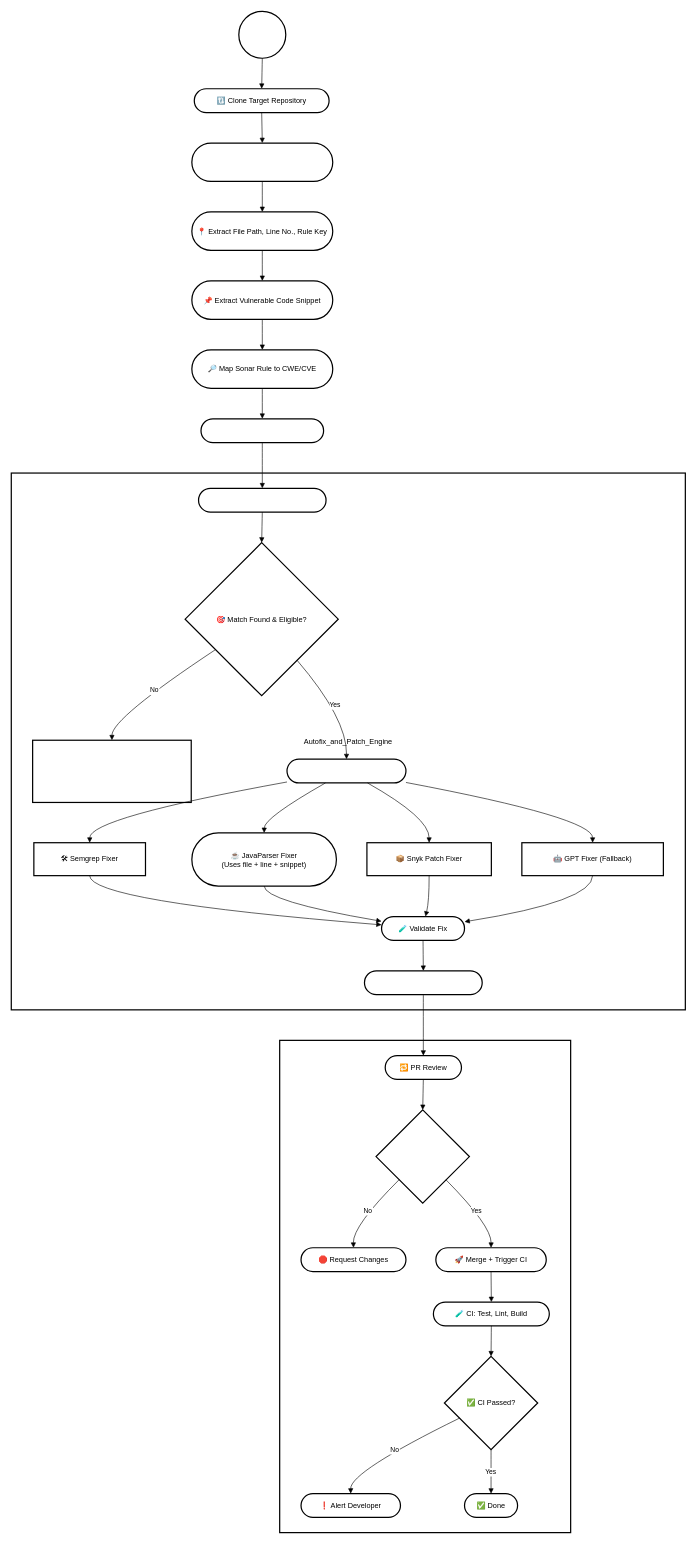
Some shapes in this 696 by 1543 pixel diagram are drawn without their labels. The box of each missing label's shape, as (x1, y1, x2, y2) in pixels:
Review_and_Merge: (279, 1039, 571, 1533)
⚙️ Choose Fixer Engine: (286, 758, 406, 783)
✅ Approved?: (375, 1109, 470, 1204)
🏁 Start: (238, 10, 286, 59)
📄 Load SonarQube Vulnerability Report: (191, 142, 333, 182)
📋 Log + Notify Developer (with vulnerable snippet): (32, 739, 192, 803)
📘 CWE → Fixer Mapping: (198, 487, 326, 512)
📬 Create Pull Request: (364, 970, 483, 995)
🧠 CVE-to-Rule Mapping: (200, 418, 324, 443)
